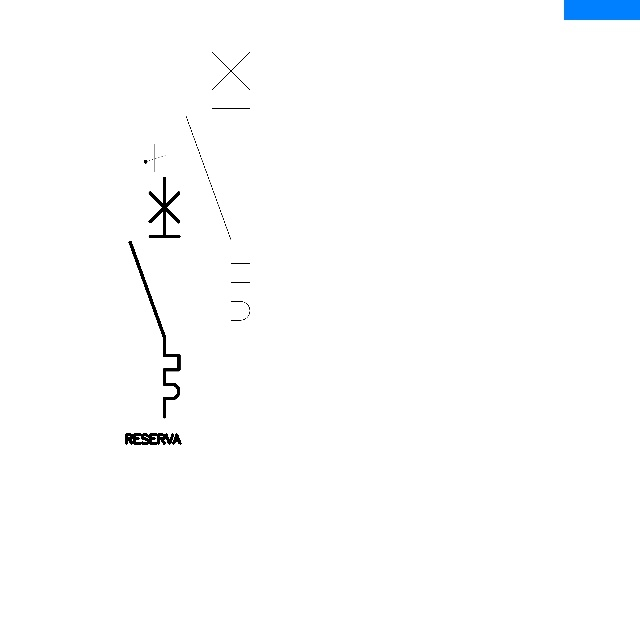interruptor_termomagnetico: (178, 25, 258, 352), (124, 172, 185, 423)
